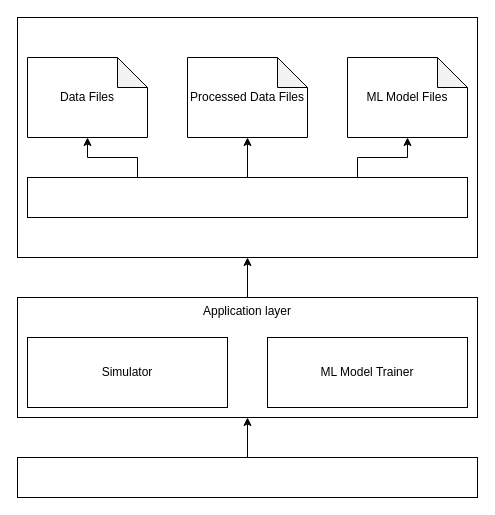
The diagram is 495 pixels wide and 515 high, and some of its shapes have lost their labels. Each missing label, with the centre of its shape:
"Data storage" belongs at [247,197].
"UI" belongs at [247,477].
